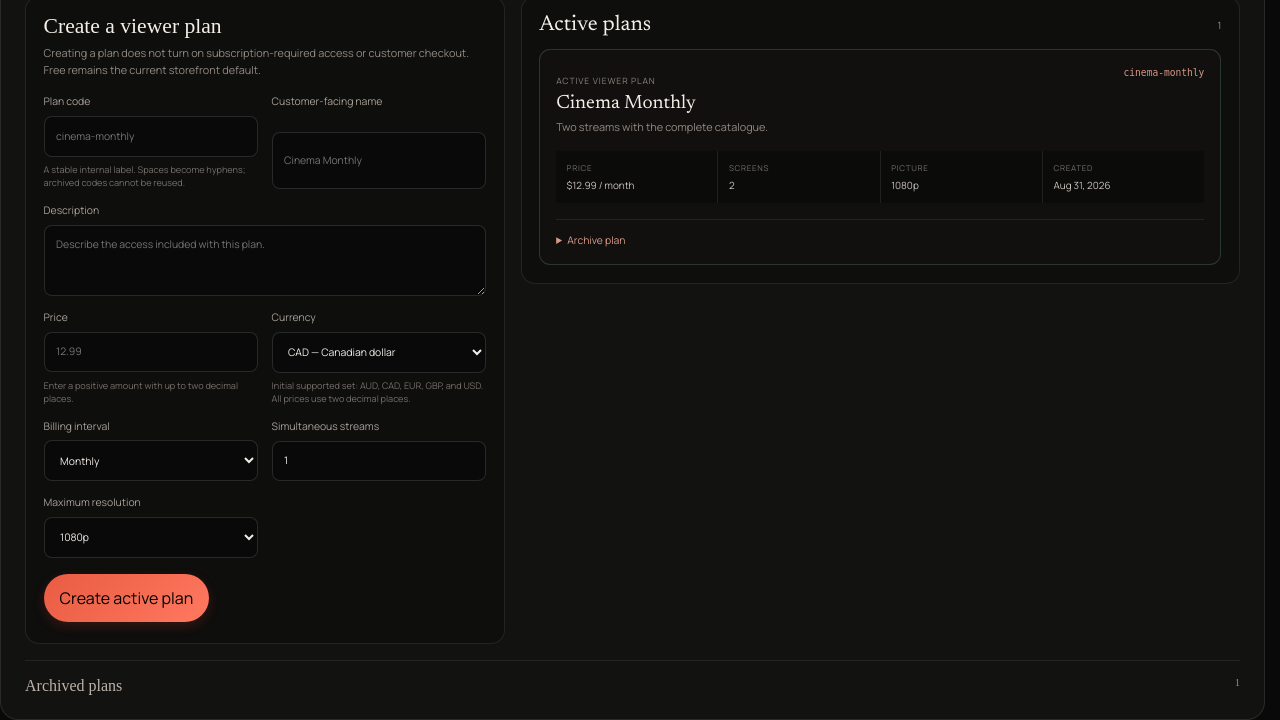
Scenario: ViewerPlanManager › lists active and archived plans with immutable historical terms
(page scrolled)
Check: the heading "Cinema Monthly" is shown, box [556,94,696,113]
Check: the text "$12.99 / month" is shown, box [567,178,634,192]
Step 1. Click the heading "Archived plans 1" → [74, 685], box [25,676,1240,694]
(page scrolled)
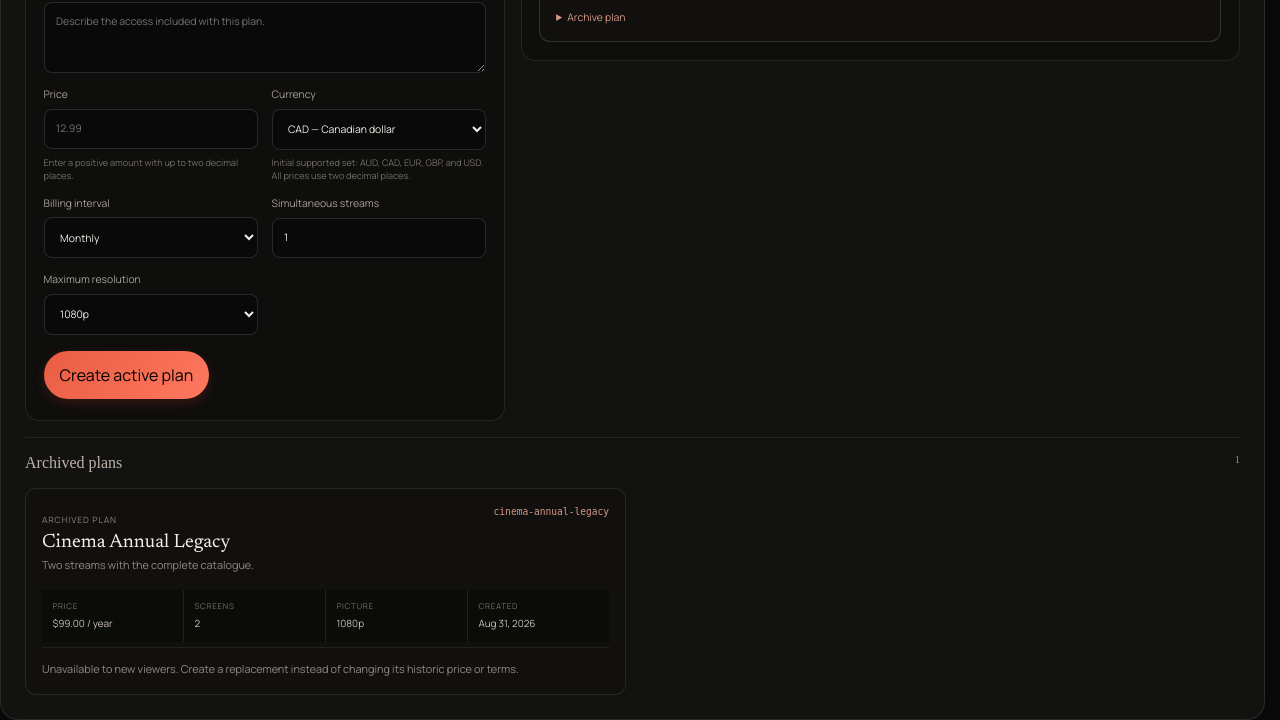
Check: the heading "Cinema Annual Legacy" is shown, box [42,532,230,552]
Check: the text "Unavailable to new viewers" is shown, box [42,661,519,676]
